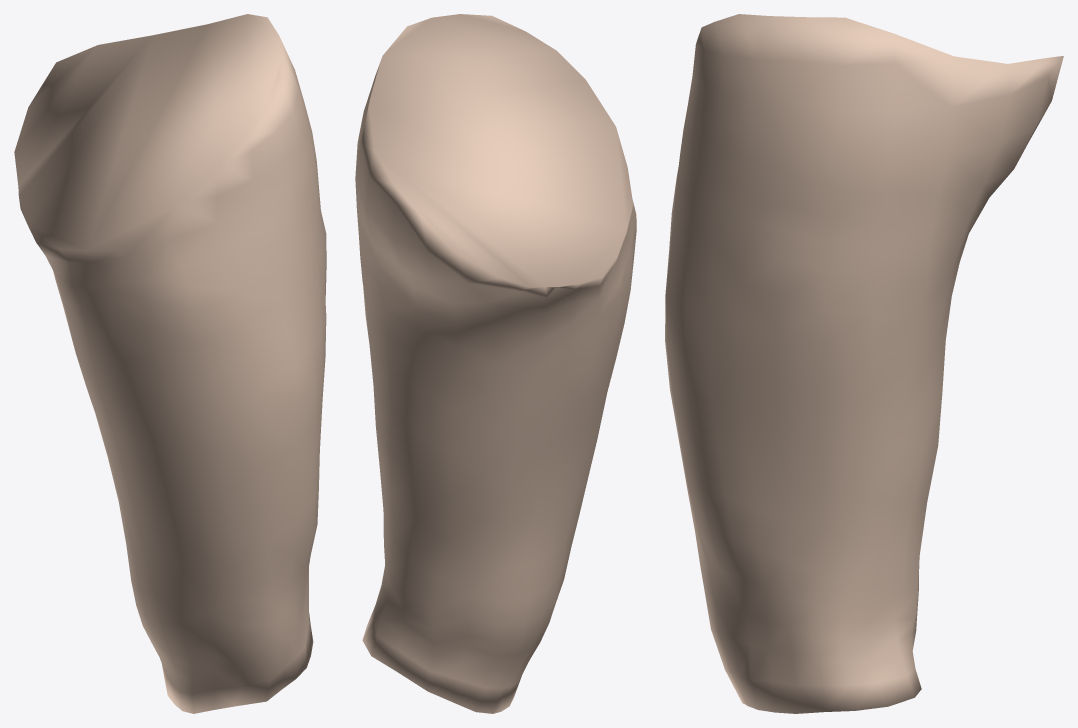
Rendered from right_upper_leg.dae.
3 renders of one model, left to right at view 1: azimuth 30°, elevation 25°; view 2: azimuth 150°, elevation 25°; view 3: azimuth 270°, elevation 25°, orthographic. The views are drawn at different scales.
Parts seen in each view (by area): view 1: right-upper-leg; view 2: right-upper-leg; view 3: right-upper-leg.
Part boxes in pixels (box(x1,y1,x2,y2)): right-upper-leg: box(14, 14, 326, 713); right-upper-leg: box(355, 14, 636, 713); right-upper-leg: box(665, 14, 1063, 713).
Bounding box in the file's own units: 0.1806 × 0.2226 × 0.4554.
